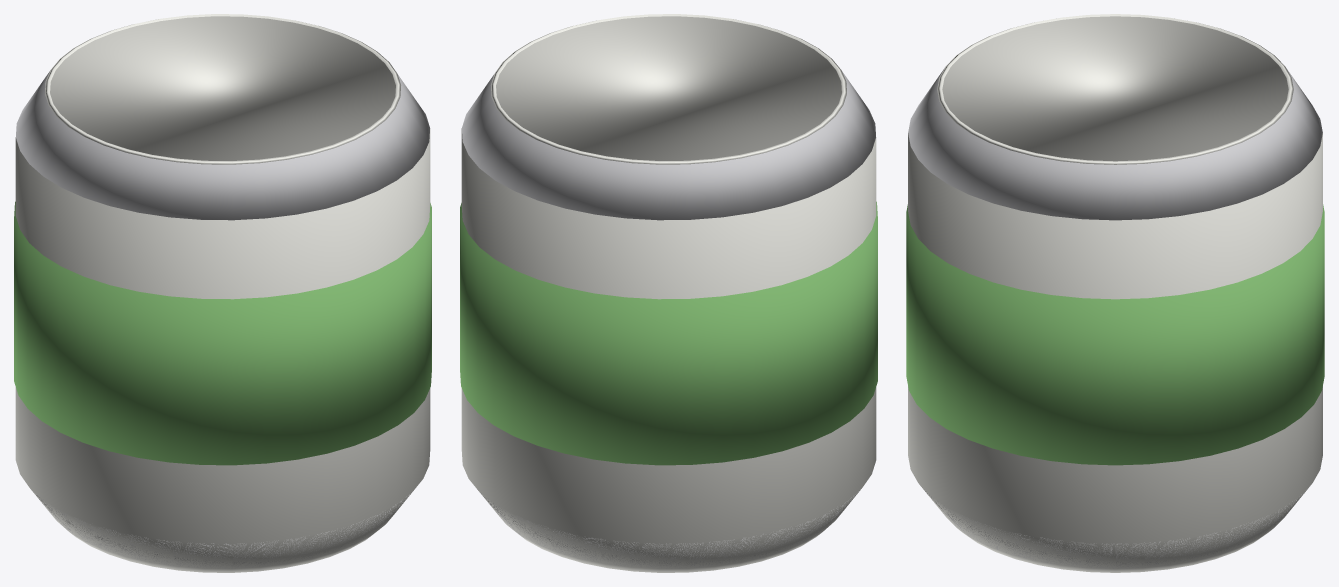
The model's file is SM_Farikal.glb.
3 views of the same model, side by side, from view 1: azimuth 30°, elevation 25°; view 2: azimuth 150°, elevation 25°; view 3: azimuth 270°, elevation 25° (orthographic).
Visible parts, largest first — view 1: SM_Farikal; view 2: SM_Farikal; view 3: SM_Farikal.
Part boxes in pixels (x1,y1,x2,y2): SM_Farikal: (14,14,431,572); SM_Farikal: (460,14,877,572); SM_Farikal: (906,14,1324,572).
Size of the model in its own units: 0.1008 by 0.11 by 0.1008.
